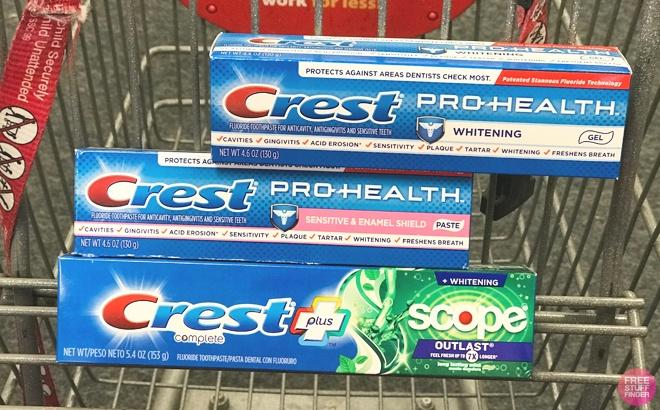toothpaste: (55, 248, 538, 386), (207, 30, 624, 182), (69, 138, 470, 270)
